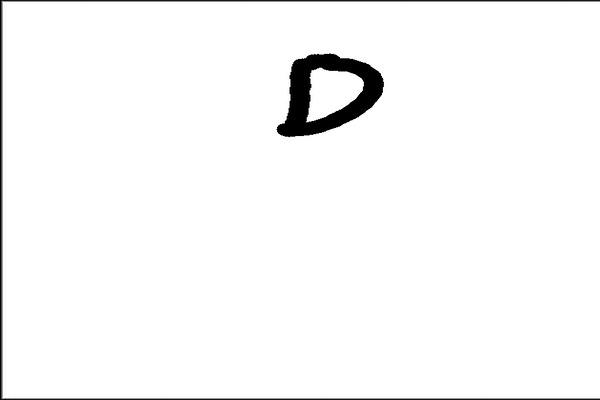D: (274, 45, 386, 150)
